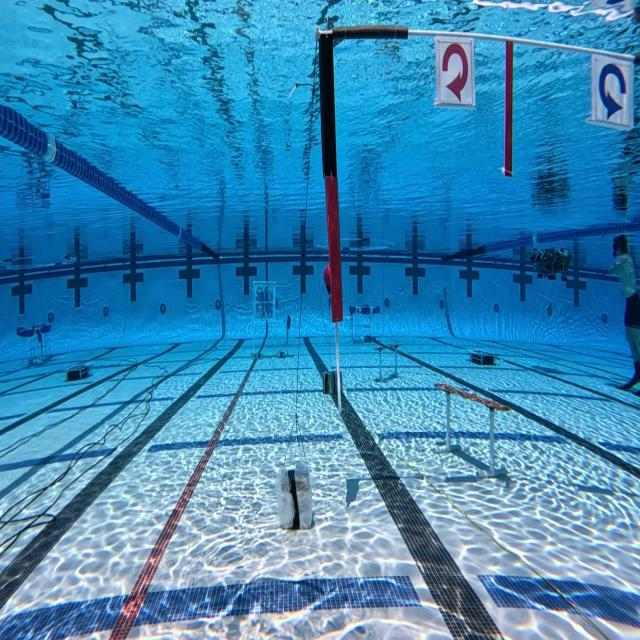blue_side: (586, 40, 638, 140)
red_side: (432, 28, 483, 115)
